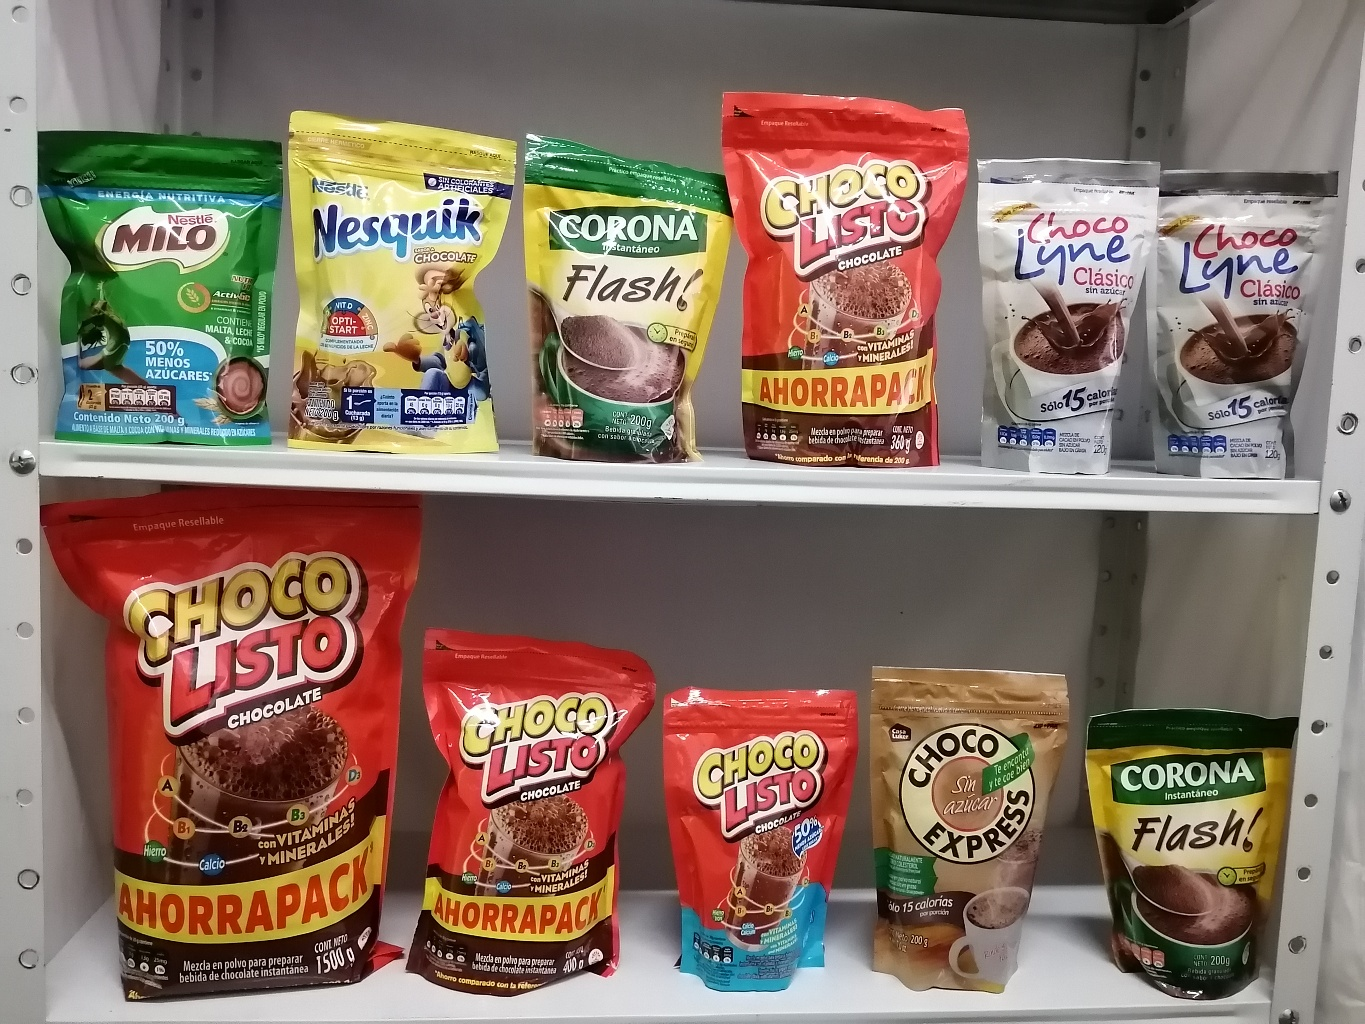COL0170103DYP1,500: (30, 474, 437, 1014)
COL0170103DYP36000: (699, 65, 999, 478)
COL0170103DYP40000: (406, 616, 662, 1009)
COL0170104DYP20000: (651, 674, 861, 999)
COL0170205DYP20000: (14, 120, 307, 449)
COL0170303DYP20000: (276, 97, 557, 459)
